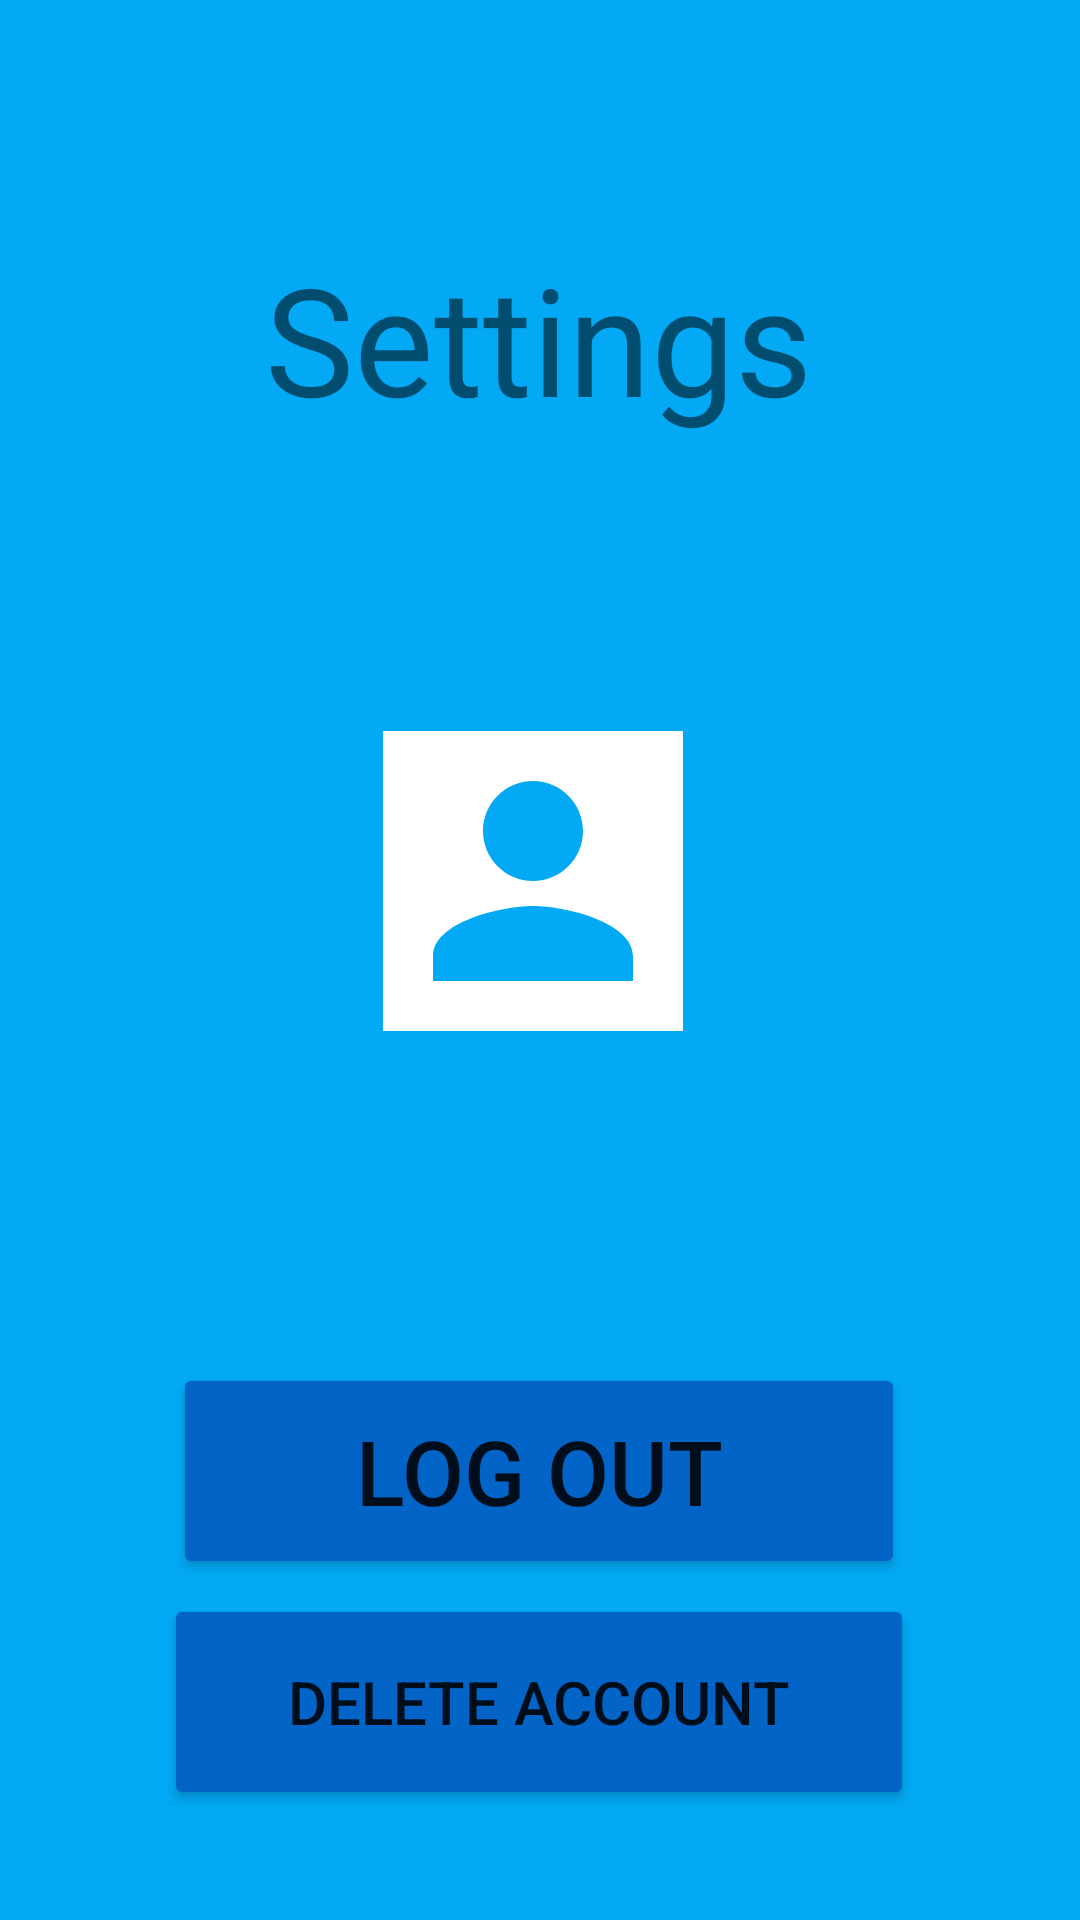

Named icons in this screenshot (1080 × 1920) and their centers, (x,y):
Profile Picture: (533,881)
